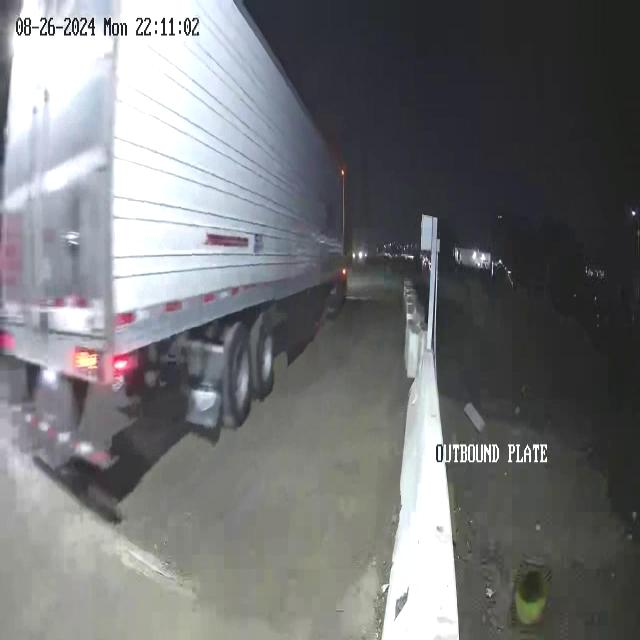TRUCK_CONTAINER: (1, 1, 350, 519)
